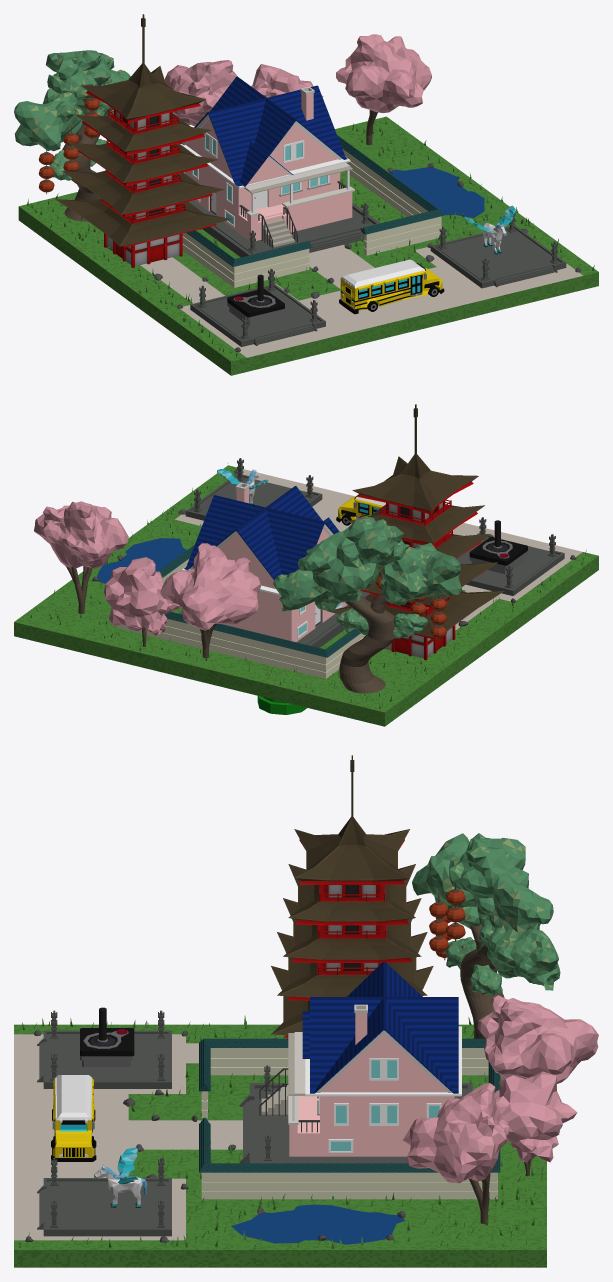
3 views of the same model, one above another, from view 1: azimuth 30°, elevation 25°; view 2: azimuth 150°, elevation 25°; view 3: azimuth 270°, elevation 25° (orthographic). The views are drawn at different scales.
Parts seen in each view (by area): view 1: Cube.005, Cube.313, VEHICLES_SCHOOL_BUS, OBJRANDOM_JOYSTICK, ANIMAL_PEGASO; view 2: Cube.005, Cube.313, OBJRANDOM_JOYSTICK, VEHICLES_SCHOOL_BUS, UNDERGROUND_PIPES, ANIMAL_PEGASO; view 3: Cube.005, Cube.313, VEHICLES_SCHOOL_BUS, OBJRANDOM_JOYSTICK, ANIMAL_PEGASO.
Boxes of the visible parts, x1,y1,x2,y2 form: Cube.005: (14, 14, 598, 375); Cube.313: (179, 76, 354, 248); VEHICLES_SCHOOL_BUS: (339, 259, 444, 314); OBJRANDOM_JOYSTICK: (227, 274, 284, 325); ANIMAL_PEGASO: (464, 205, 515, 254); Cube.005: (14, 404, 598, 726); Cube.313: (181, 482, 347, 642); OBJRANDOM_JOYSTICK: (469, 520, 527, 574); VEHICLES_SCHOOL_BUS: (336, 494, 385, 525); UNDERGROUND_PIPES: (257, 696, 306, 714); ANIMAL_PEGASO: (217, 469, 268, 504); Cube.005: (14, 755, 598, 1267); Cube.313: (259, 961, 461, 1156); VEHICLES_SCHOOL_BUS: (51, 1075, 96, 1161); OBJRANDOM_JOYSTICK: (80, 1007, 134, 1066); ANIMAL_PEGASO: (94, 1147, 147, 1207).
Bounding box in the file's own units: 4528 × 3273 × 4389.
48 materials, 5 textured.
